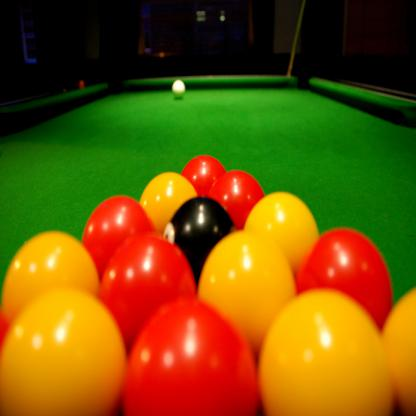Ball: (0, 154, 416, 416), (172, 80, 184, 96)
